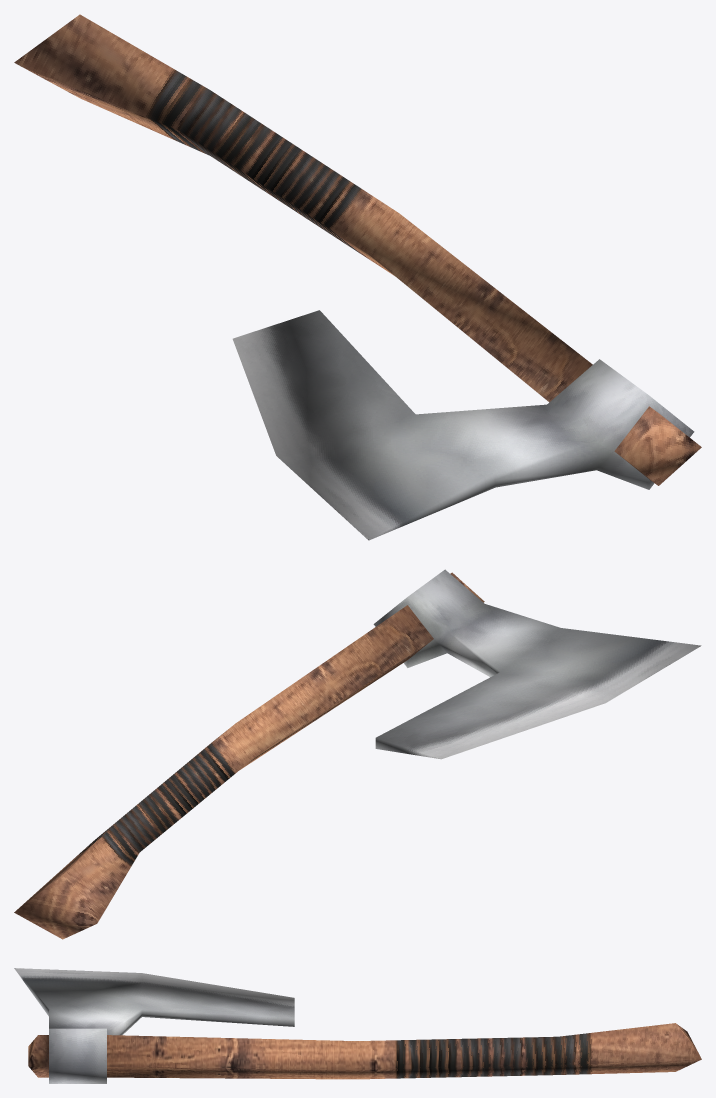
Rendered from one_handed_axe_1.glb.
3 views of the same model, one above another, from view 1: azimuth 30°, elevation 25°; view 2: azimuth 150°, elevation 25°; view 3: azimuth 270°, elevation 25° (orthographic). The views are drawn at different scales.
Visible parts, largest first — view 1: one_handed_axe_1; view 2: one_handed_axe_1; view 3: one_handed_axe_1.
Boxes of the visible parts, <box> form: one_handed_axe_1: <box>14,14,701,540</box>; one_handed_axe_1: <box>14,569,701,939</box>; one_handed_axe_1: <box>14,968,701,1083</box>.
Bounding box in the file's own units: 0.4898 × 0.1245 × 1.41.
Materials: 1 (1 with a texture image).
